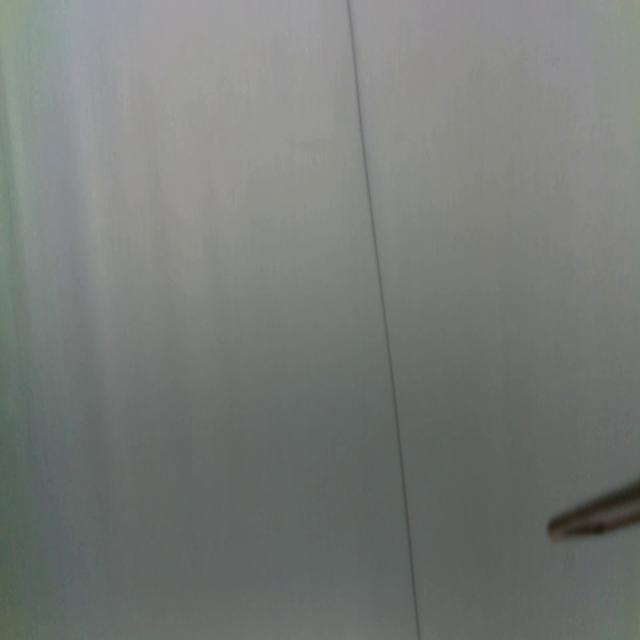crease: (347, 0, 421, 640)
